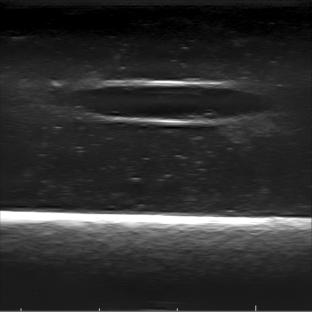vessel: (69, 79, 270, 126)
